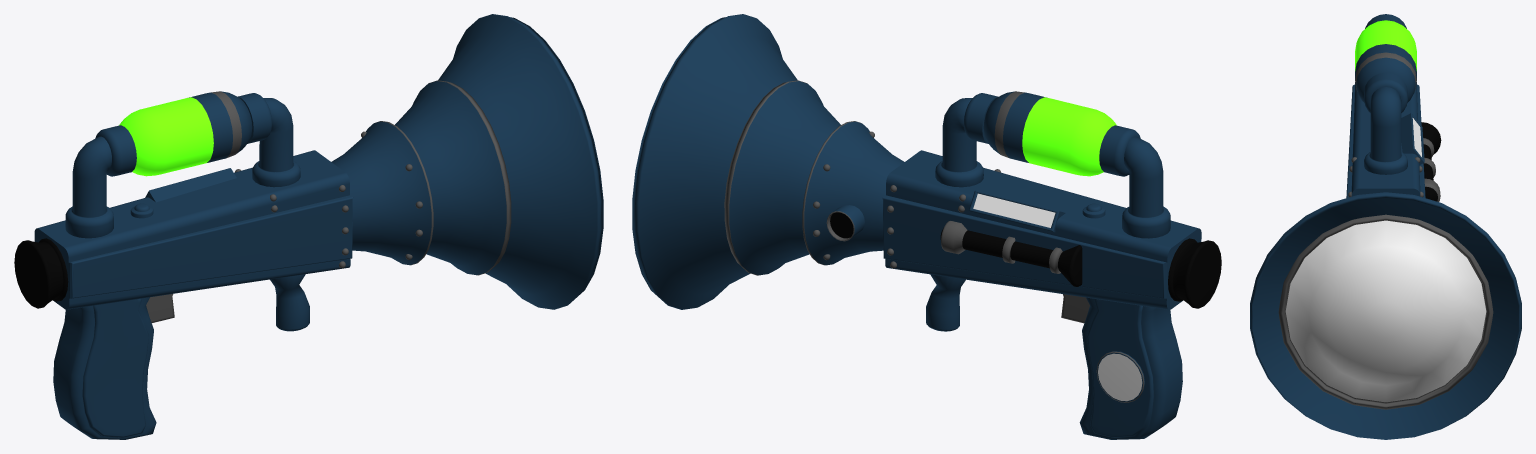
The picture shows the model from 3 angles, left to right: view 1: azimuth 30°, elevation 25°; view 2: azimuth 150°, elevation 25°; view 3: azimuth 270°, elevation 25°; orthographic projection. The views are drawn at different scales.
Visible parts, largest first — view 1: maya2sketchfab, maya2sketchfab_039, maya2sketchfab_040, maya2sketchfab_026, maya2sketchfab_038, maya2sketchfab_030, maya2sketchfab_033, maya2sketchfab_037, maya2sketchfab_035, maya2sketchfab_032, maya2sketchfab_034, maya2sketchfab_028 (+2 smaller); view 2: maya2sketchfab_039, maya2sketchfab, maya2sketchfab_040, maya2sketchfab_026, maya2sketchfab_038, maya2sketchfab_030, maya2sketchfab_033, maya2sketchfab_029, maya2sketchfab_037, maya2sketchfab_035, maya2sketchfab_028, maya2sketchfab_001 (+5 smaller); view 3: maya2sketchfab_024, maya2sketchfab_039, maya2sketchfab, maya2sketchfab_030, maya2sketchfab_035, maya2sketchfab_029, maya2sketchfab_028, maya2sketchfab_036.
Part boxes in pixels (<box>): maya2sketchfab: <box>34,150,353,309</box>; maya2sketchfab_039: <box>438,14,603,309</box>; maya2sketchfab_040: <box>395,80,511,275</box>; maya2sketchfab_026: <box>53,297,156,439</box>; maya2sketchfab_038: <box>331,121,433,265</box>; maya2sketchfab_030: <box>119,91,252,176</box>; maya2sketchfab_033: <box>65,136,113,238</box>; maya2sketchfab_037: <box>14,238,68,308</box>; maya2sketchfab_035: <box>252,98,300,187</box>; maya2sketchfab_032: <box>270,274,309,331</box>; maya2sketchfab_034: <box>95,125,136,176</box>; maya2sketchfab_028: <box>145,168,236,202</box>; maya2sketchfab_039: <box>632,14,797,309</box>; maya2sketchfab: <box>882,150,1201,309</box>; maya2sketchfab_040: <box>724,80,840,275</box>; maya2sketchfab_026: <box>1079,297,1182,439</box>; maya2sketchfab_038: <box>802,121,904,265</box>; maya2sketchfab_030: <box>983,91,1116,176</box>; maya2sketchfab_033: <box>1122,136,1170,238</box>; maya2sketchfab_029: <box>940,221,1082,286</box>; maya2sketchfab_037: <box>1168,238,1221,308</box>; maya2sketchfab_035: <box>935,98,983,187</box>; maya2sketchfab_028: <box>969,190,1065,232</box>; maya2sketchfab_001: <box>1096,351,1144,402</box>; maya2sketchfab_024: <box>1278,214,1493,409</box>; maya2sketchfab_039: <box>1250,192,1521,439</box>; maya2sketchfab: <box>1346,82,1425,197</box>; maya2sketchfab_030: <box>1355,20,1416,102</box>; maya2sketchfab_035: <box>1364,87,1407,174</box>; maya2sketchfab_029: <box>1421,122,1441,201</box>; maya2sketchfab_028: <box>1401,113,1424,164</box>; maya2sketchfab_036: <box>1364,72,1407,112</box>.
Size of the model in its own units: 1016 by 610 by 529.
